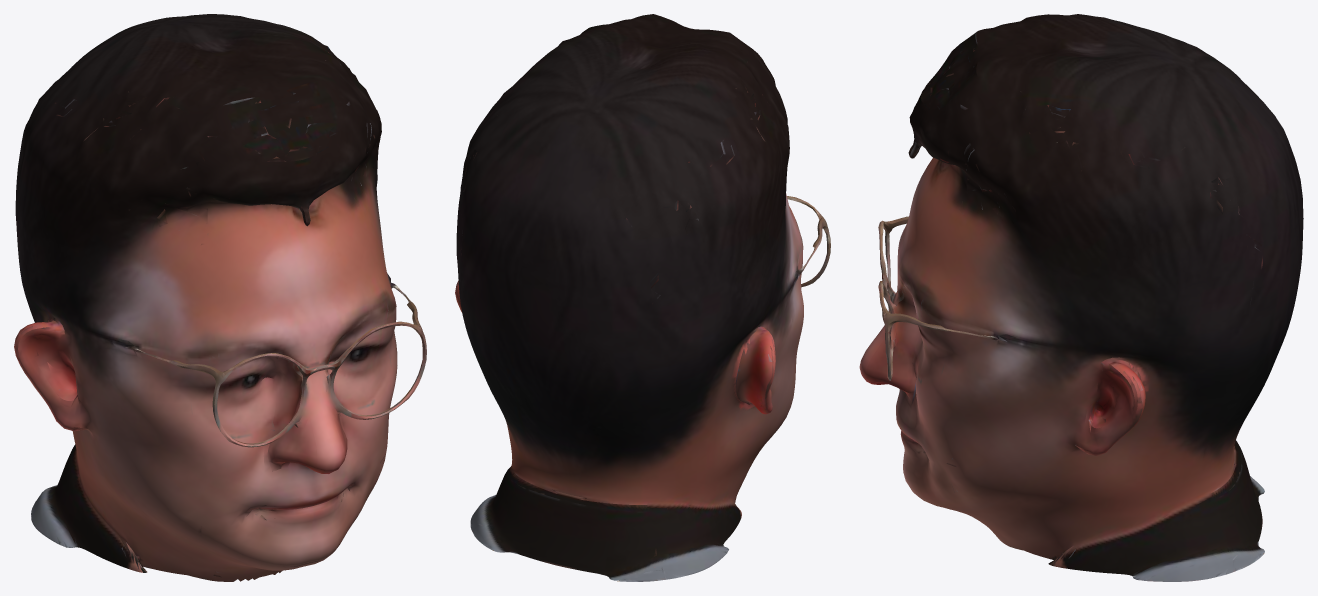
The model's file is Mr_Pan.glb.
3 renders of one model, left to right at view 1: azimuth 30°, elevation 25°; view 2: azimuth 150°, elevation 25°; view 3: azimuth 270°, elevation 25°, orthographic. The views are drawn at different scales.
Parts seen in each view (by area): view 1: Mr.Pan; view 2: Mr.Pan; view 3: Mr.Pan.
Boxes of the visible parts, x1,y1,x2,y2 form: Mr.Pan: (14, 14, 426, 581); Mr.Pan: (455, 14, 830, 581); Mr.Pan: (859, 14, 1303, 581).
Bounding box in the file's own units: 4.54 × 6.23 × 5.17.
1 material, 1 textured.
